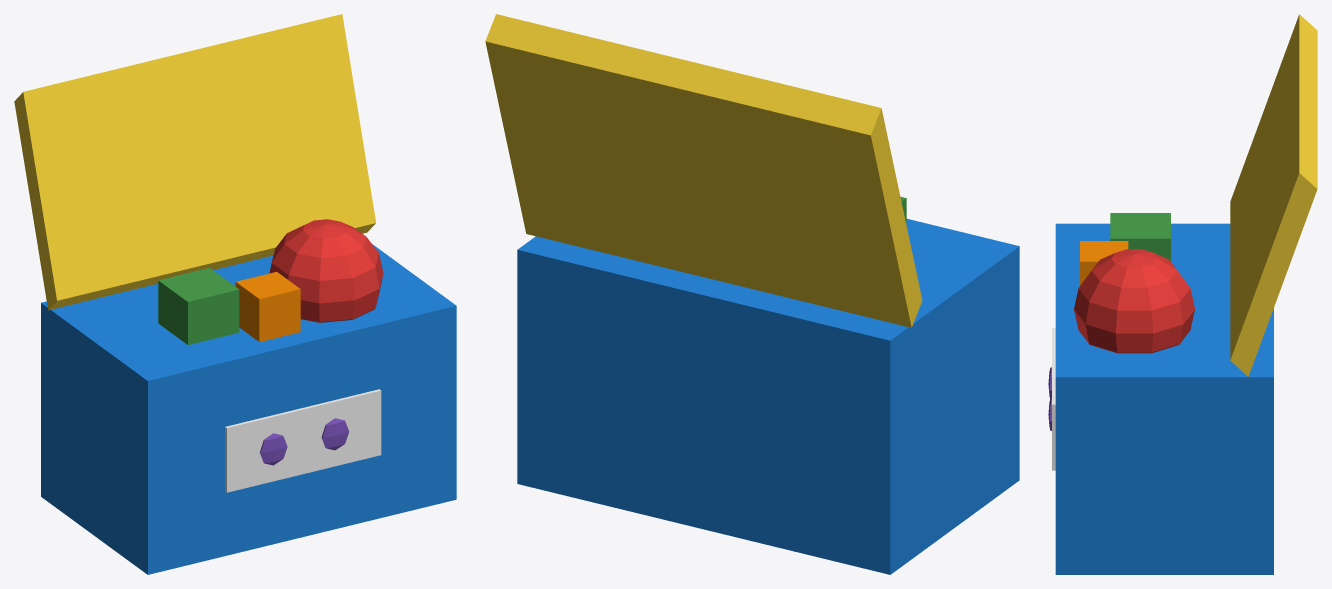
Rendered from leksakslada.glb.
3 views of the same model, side by side, from view 1: azimuth 30°, elevation 25°; view 2: azimuth 150°, elevation 25°; view 3: azimuth 270°, elevation 25° (orthographic). The views are drawn at different scales.
Parts seen in each view (by area): view 1: leksakslada; view 2: leksakslada; view 3: leksakslada.
Boxes of the visible parts, x1,y1,x2,y2 form: leksakslada: [14, 14, 456, 574]; leksakslada: [485, 14, 1019, 574]; leksakslada: [1048, 14, 1317, 574].
Bounding box in the file's own units: 0.62 × 0.737 × 0.444.
